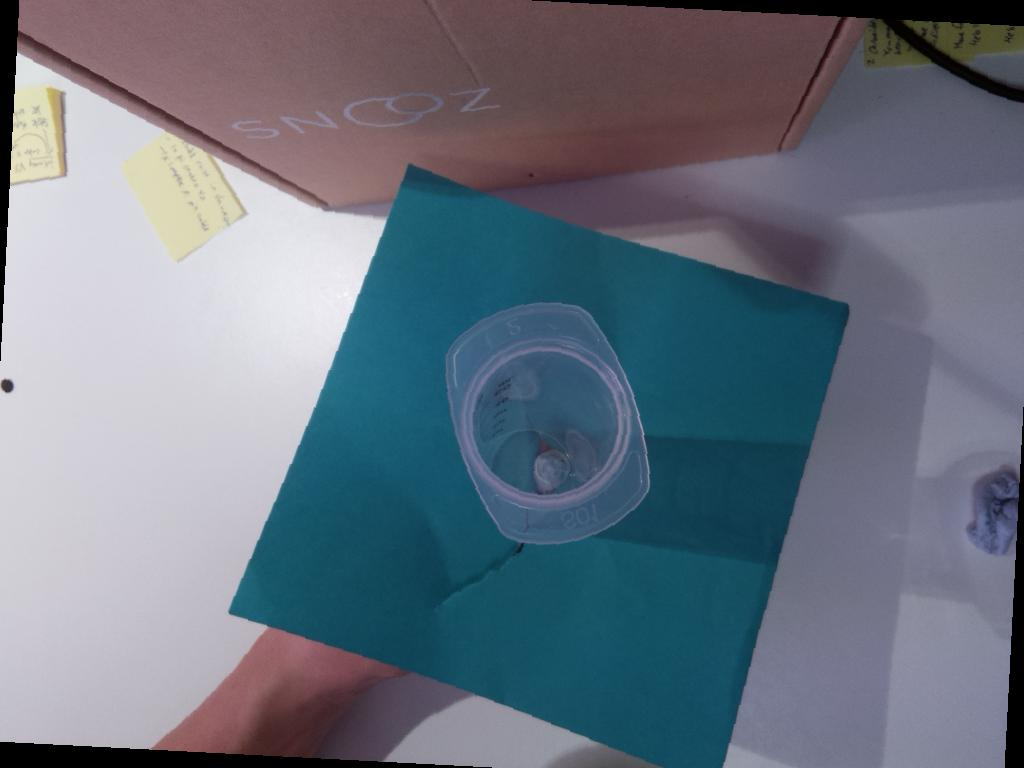clean: (444, 300, 651, 546)
